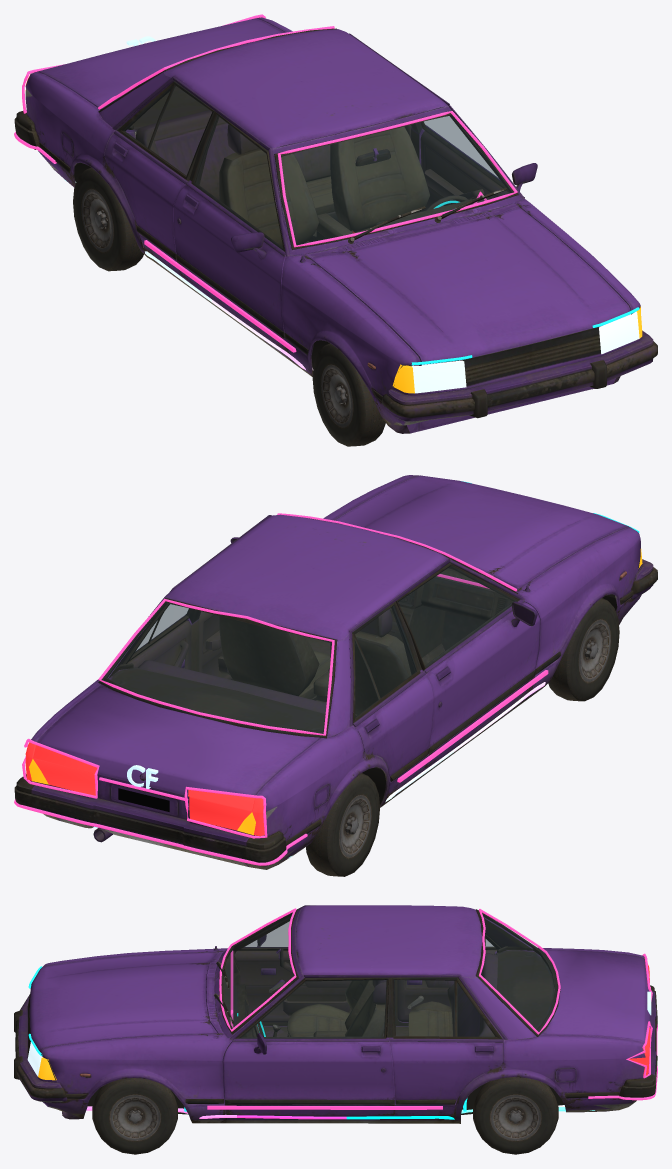
Rendered from car-dirty-high.glb.
The picture shows the model from 3 angles, top to bottom: view 1: azimuth 30°, elevation 25°; view 2: azimuth 150°, elevation 25°; view 3: azimuth 270°, elevation 25°; orthographic projection. The views are drawn at different scales.
Visible parts, largest first — view 1: body, glass, cockpit_static, wheel_FR, wheel_RR, glass_rear, neon_edges, neon_side, neon_rear, neon_body; view 2: body, glass_rear, cockpit_static, glass, wheel_RR, wheel_FR, neon_rear, neon_tail, neon_side, neon_edges, neon_body, screen_plate; view 3: body, glass, glass_rear, cockpit_static, wheel_RL, wheel_FL, neon_rear, neon_body, neon_side, neon_edges, neon_tail.
Part boxes in pixels (bbox=[...]): body: bbox=[14, 17, 657, 433]; glass: bbox=[193, 115, 512, 250]; cockpit_static: bbox=[219, 126, 489, 247]; wheel_FR: bbox=[312, 343, 385, 446]; wheel_RR: bbox=[73, 167, 143, 271]; glass_rear: bbox=[110, 83, 211, 175]; neon_edges: bbox=[277, 111, 517, 247]; neon_side: bbox=[144, 240, 296, 352]; neon_rear: bbox=[14, 26, 334, 163]; neon_body: bbox=[64, 179, 313, 370]; body: bbox=[14, 475, 657, 869]; glass_rear: bbox=[102, 602, 416, 733]; cockpit_static: bbox=[219, 568, 513, 716]; glass: bbox=[398, 565, 517, 667]; wheel_RR: bbox=[306, 773, 379, 876]; wheel_FR: bbox=[548, 598, 619, 701]; neon_rear: bbox=[14, 598, 334, 865]; neon_tail: bbox=[22, 738, 267, 838]; neon_side: bbox=[397, 670, 548, 782]; neon_edges: bbox=[277, 513, 516, 591]; neon_body: bbox=[93, 682, 545, 858]; screen_plate: bbox=[118, 788, 169, 811]; body: bbox=[14, 905, 657, 1123]; glass: bbox=[223, 914, 386, 1038]; glass_rear: bbox=[394, 914, 556, 1036]; cockpit_static: bbox=[214, 953, 452, 1037]; wheel_RL: bbox=[473, 1077, 558, 1154]; wheel_FL: bbox=[92, 1078, 177, 1154]; neon_rear: bbox=[479, 909, 657, 1100]; neon_body: bbox=[86, 1106, 594, 1119]; neon_side: bbox=[207, 1105, 442, 1109]; neon_edges: bbox=[219, 908, 296, 1031]; neon_tail: bbox=[626, 953, 652, 1078].
Size of the model in its own units: 2.62 by 1.79 by 6.01.
Materials: 25 (3 with a texture image).
